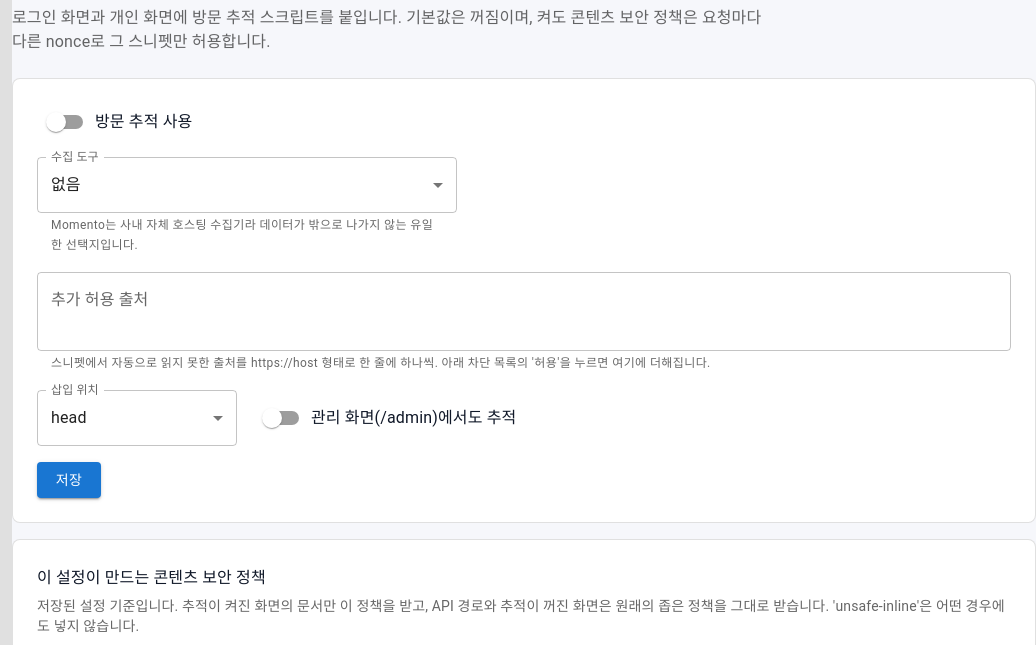
turning Momento on through the proxy saves the configuration
Step 1. Click the switch labelled "방문 추적 사용" → (119, 122), box top-left (46, 112), bottom-right (192, 132)
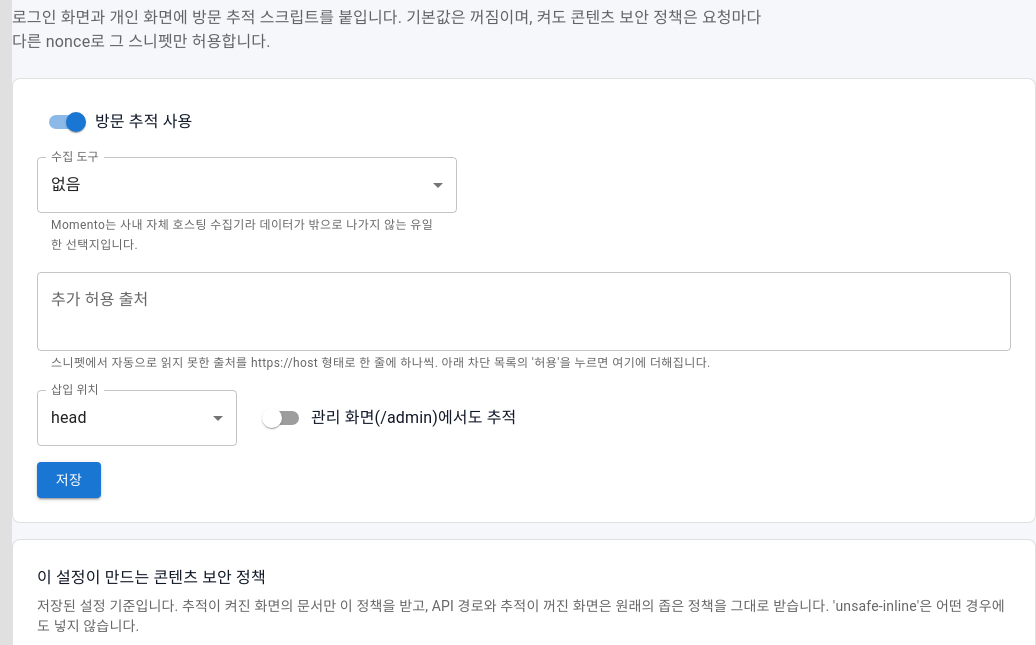
Step 2. Click the dropdown named "수집 도구" → (66, 185), box top-left (51, 175), bottom-right (81, 194)
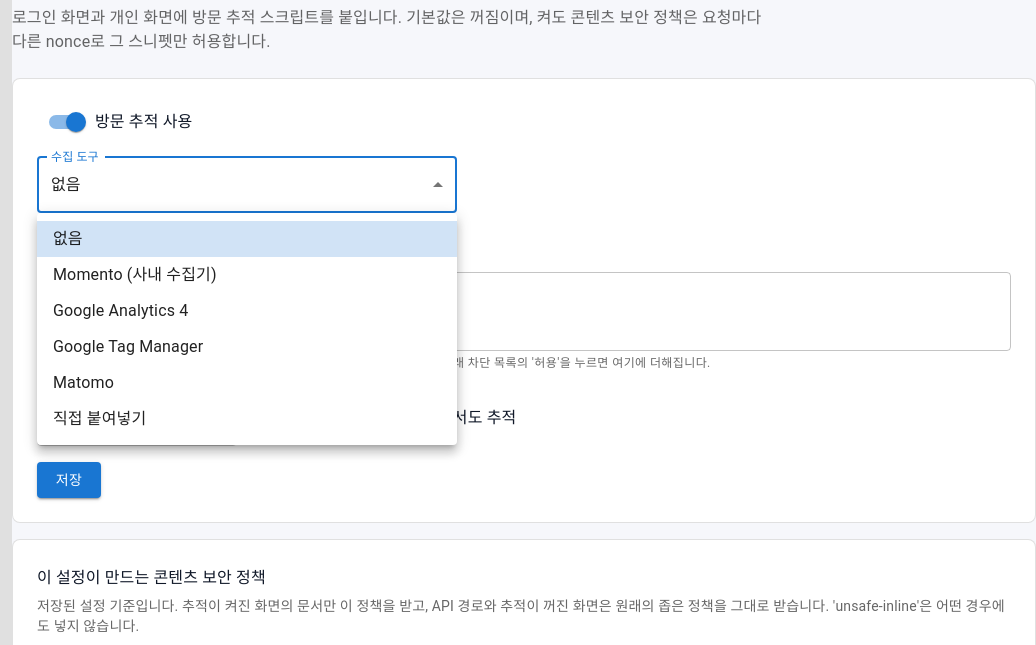
Step 3. Click the option "Momento (사내 수집기)" → (135, 274), box top-left (53, 265), bottom-right (217, 284)
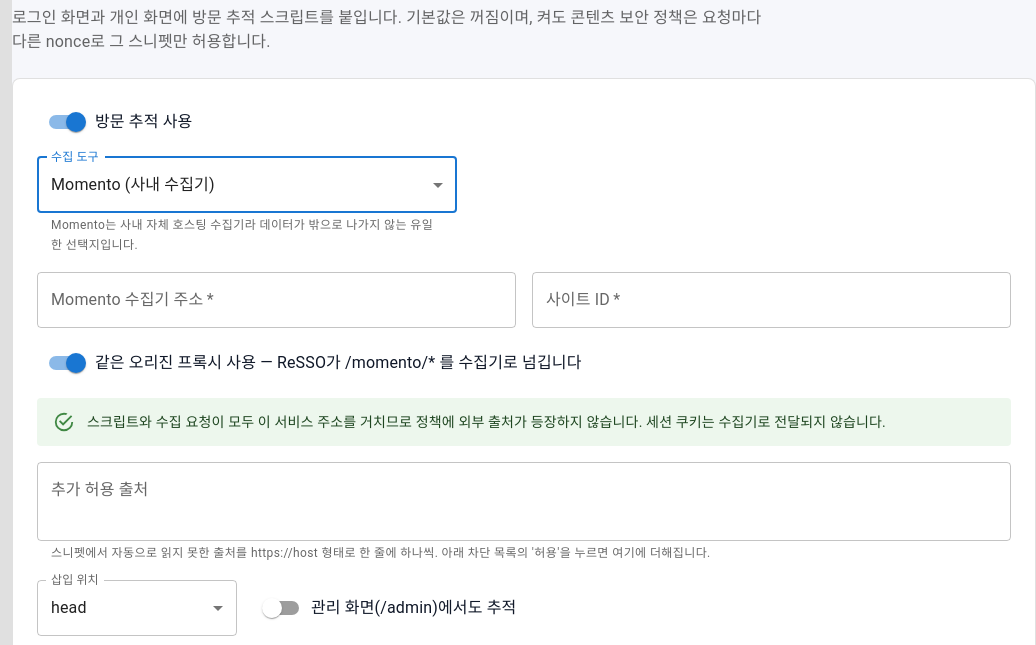
Step 4. Type "https://momento.corp.example" into the field labelled "Momento 수집기 주소 *" → (276, 300), box top-left (37, 272), bottom-right (516, 328)
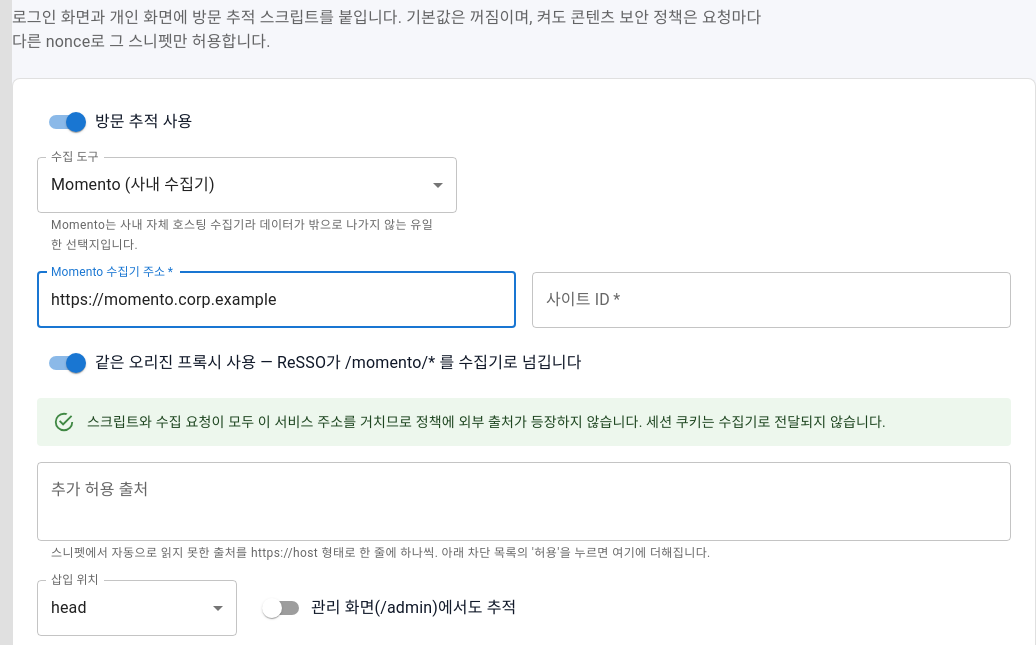
Step 5. Type "SITE_1" into the field labelled "사이트 ID *" → (772, 300), box top-left (532, 272), bottom-right (1011, 328)
(page scrolled)
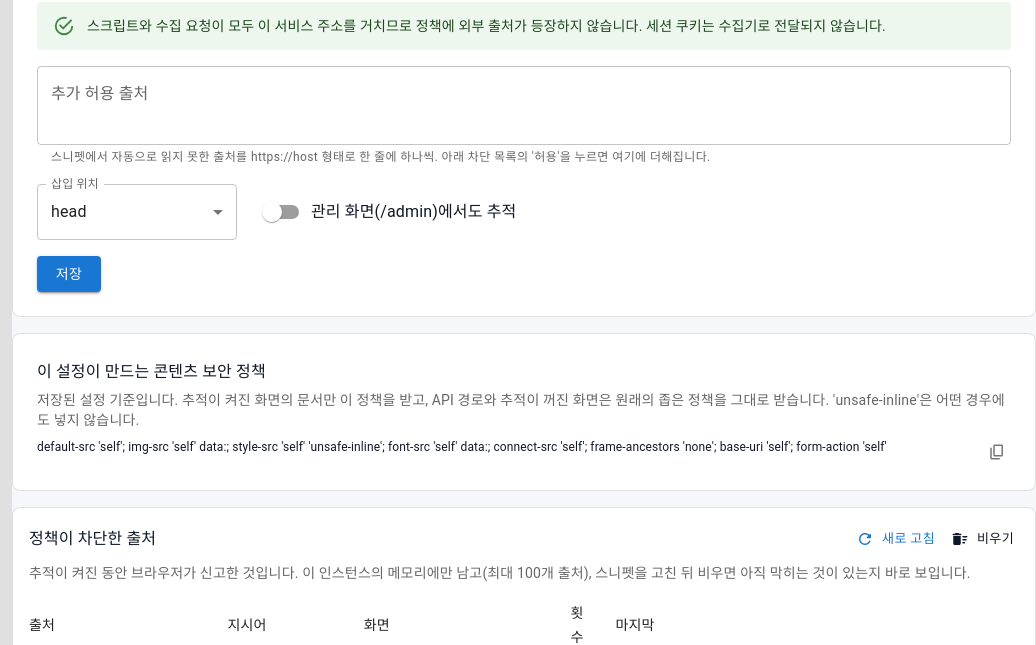
Now the text "정책에 외부 출처가 등장하지 않습니다" is shown, box top-left (87, 18), bottom-right (886, 34)
Step 6. Click the button "저장" → (69, 274), box top-left (37, 256), bottom-right (101, 292)
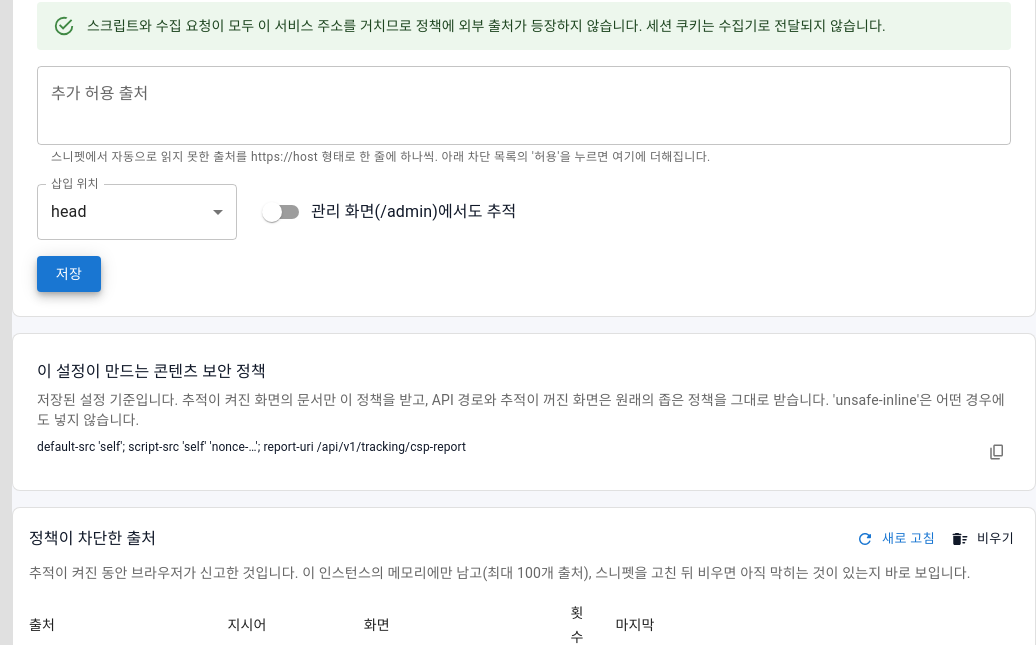
Now the text "script-src 'self' 'nonce-" is shown, box top-left (37, 440), bottom-right (466, 454)
